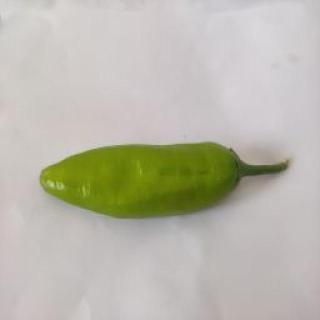Cabai Hijau: (34, 139, 294, 223)
